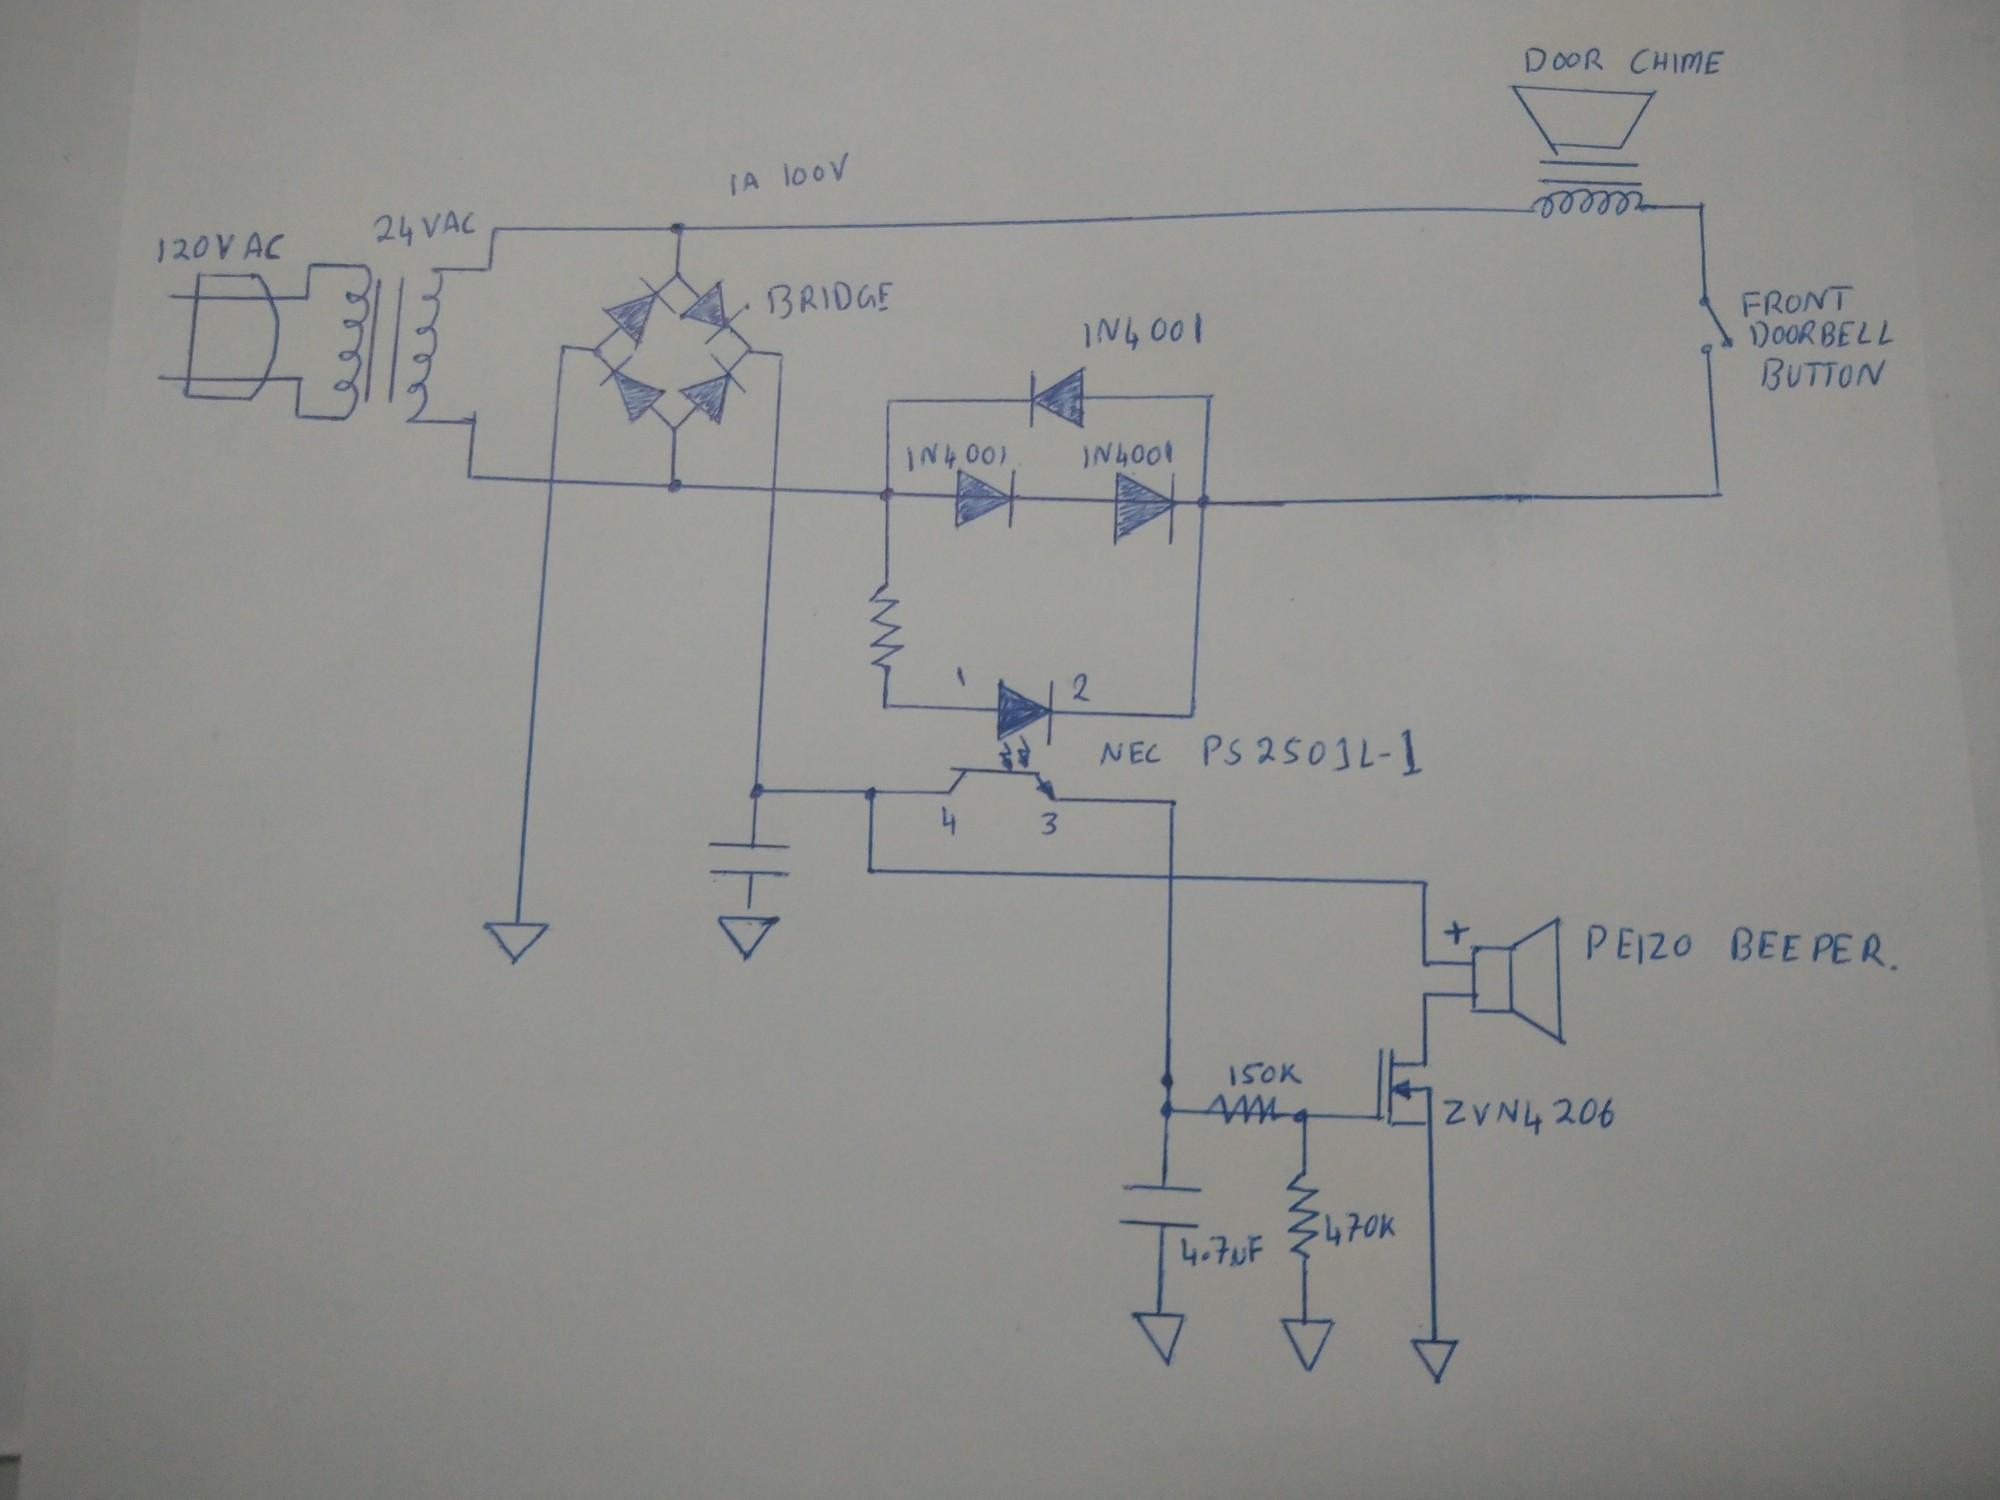capacitor.unpolarized: (1115, 1180, 1208, 1234), (706, 837, 791, 881)
crossover: (542, 471, 564, 493), (1161, 867, 1181, 889), (764, 479, 784, 499)
diode: (602, 273, 676, 350), (1110, 470, 1181, 548), (677, 276, 751, 347), (679, 353, 748, 427), (598, 355, 668, 427), (953, 466, 1020, 534), (1027, 362, 1090, 433)
gnd: (1128, 1309, 1187, 1372), (1277, 1316, 1340, 1376), (480, 917, 553, 969), (715, 912, 781, 964), (1408, 1335, 1461, 1387)
junction: (1156, 1098, 1180, 1122), (460, 463, 480, 488), (1288, 1105, 1313, 1125), (665, 474, 685, 498), (1192, 493, 1214, 514), (663, 418, 683, 440), (746, 782, 770, 800), (463, 410, 483, 430), (668, 219, 688, 239), (877, 485, 896, 507), (1414, 874, 1436, 893), (586, 342, 605, 364), (880, 392, 899, 411), (554, 339, 573, 358), (1197, 389, 1217, 407), (861, 786, 880, 804), (1709, 485, 1728, 503), (1417, 953, 1435, 972), (666, 266, 685, 284), (291, 370, 307, 391), (302, 258, 320, 276), (1691, 200, 1709, 217), (298, 288, 313, 307), (1162, 796, 1180, 811), (772, 348, 787, 366), (290, 407, 306, 424), (1416, 988, 1431, 1005), (860, 863, 876, 879), (876, 700, 891, 715), (1181, 709, 1198, 723), (742, 343, 756, 359), (480, 263, 494, 277), (487, 224, 502, 236)
optocoupler: (945, 671, 1061, 805)
resistor: (1280, 1168, 1323, 1265), (863, 581, 904, 671), (1205, 1093, 1282, 1127)
socket: (181, 269, 285, 407)
speaker: (1507, 82, 1658, 221), (1465, 912, 1569, 1049)
switch: (1694, 293, 1739, 358)
terminal: (151, 369, 172, 386), (164, 288, 183, 306)
text: (1098, 726, 1428, 780), (1581, 922, 1893, 971), (1439, 1095, 1620, 1138), (1521, 44, 1728, 79), (757, 276, 902, 325), (724, 150, 852, 202), (1080, 307, 1209, 355), (153, 224, 290, 266), (370, 203, 479, 247), (1756, 356, 1890, 391), (1746, 318, 1898, 348), (904, 440, 1014, 473), (1742, 287, 1854, 318), (1181, 1232, 1265, 1273), (1321, 1212, 1398, 1251), (1080, 441, 1173, 473), (1228, 1060, 1306, 1089), (935, 804, 964, 838), (1068, 671, 1094, 704), (1035, 808, 1060, 838), (950, 663, 972, 692)
transformer: (331, 257, 447, 430)
transistor: (1369, 1045, 1436, 1131)
